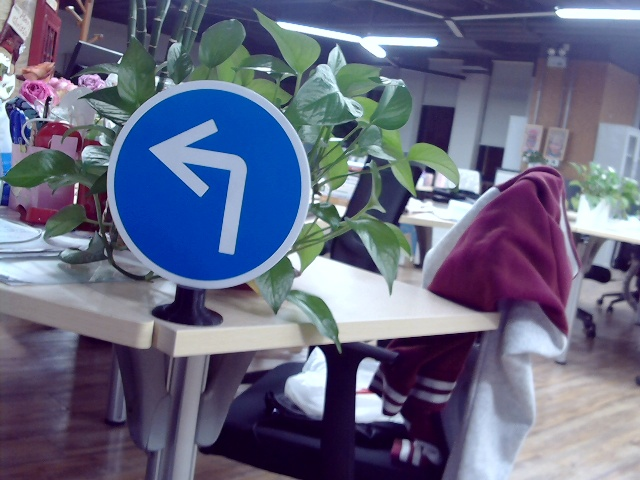turn_left: (148, 110, 254, 256)
